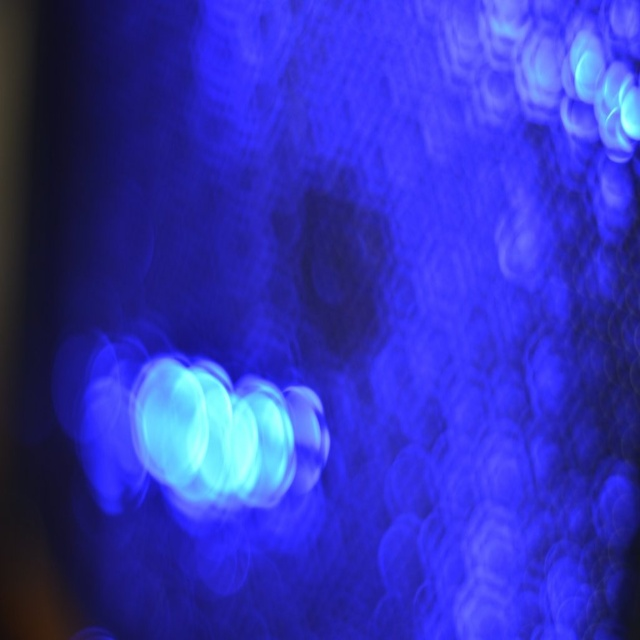Jellyfish: (70, 293, 367, 554)
